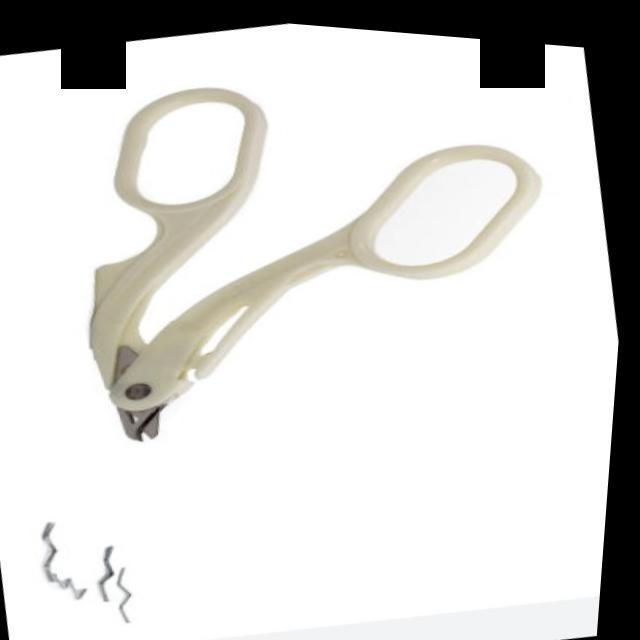Stapler Remover: (38, 8, 602, 480)
